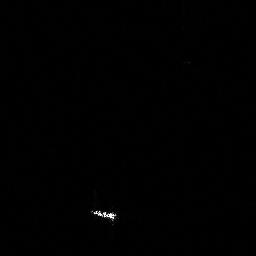ship: (86, 207, 119, 225)
